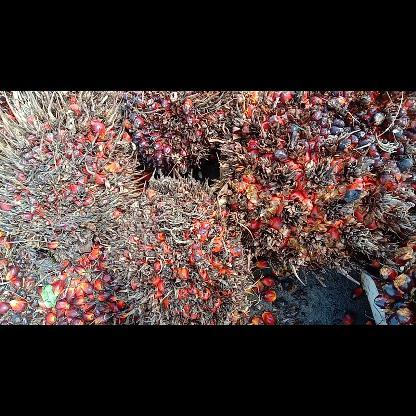Terlalu masak: (216, 90, 414, 290), (0, 90, 149, 262), (98, 170, 260, 324), (121, 90, 267, 178)
